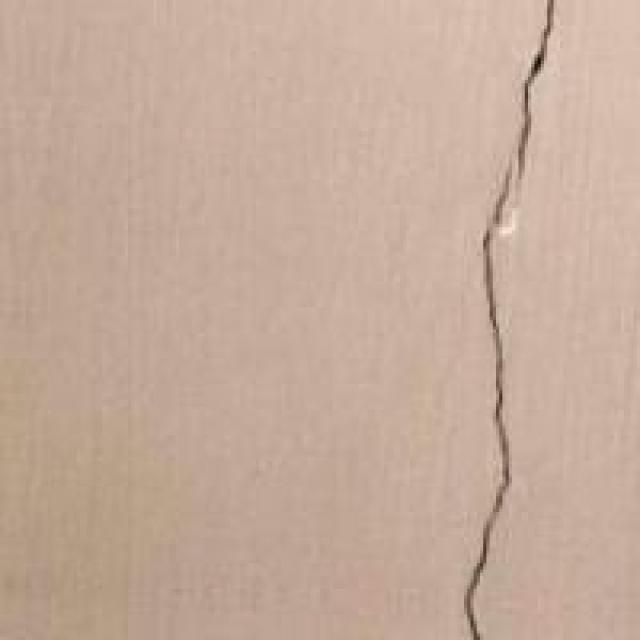crack: (448, 0, 618, 637)
